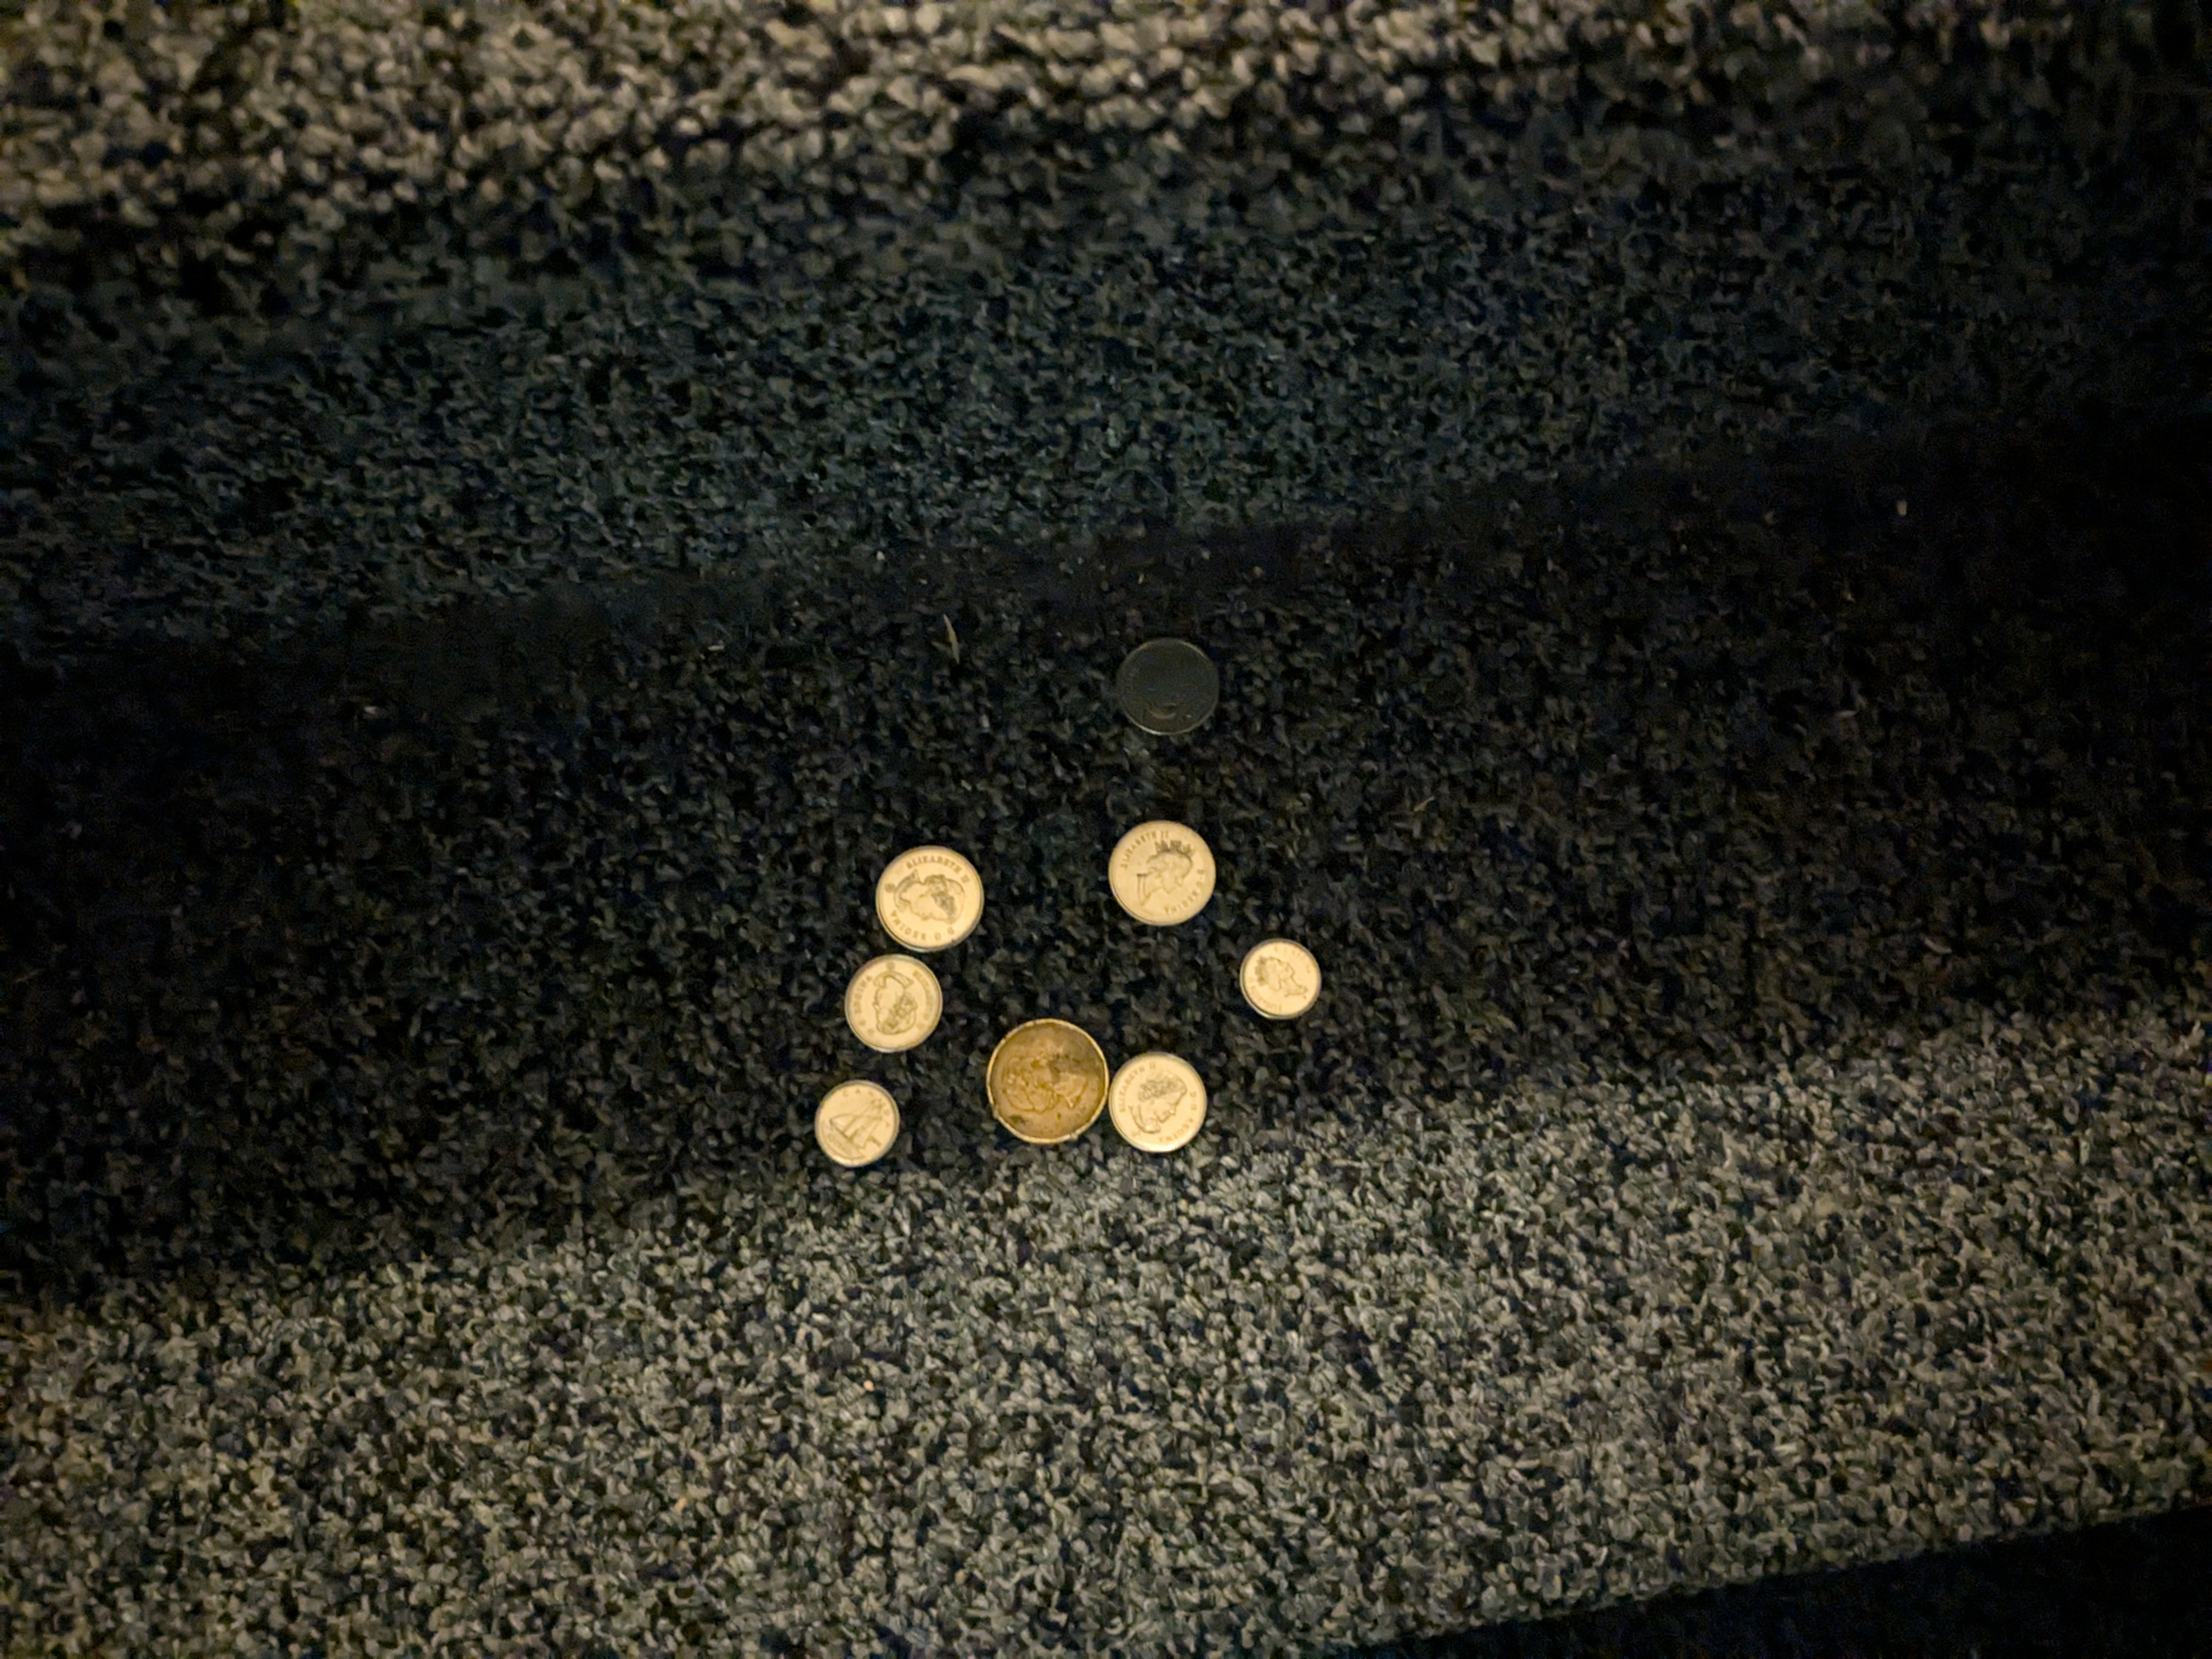dime: (813, 1079, 902, 1168), (1237, 939, 1322, 1023)
loonie: (981, 1018, 1111, 1145)
nickel: (1109, 636, 1223, 744), (841, 955, 944, 1056), (1109, 1051, 1205, 1159)
quarter: (1106, 819, 1221, 932), (867, 843, 986, 953)
